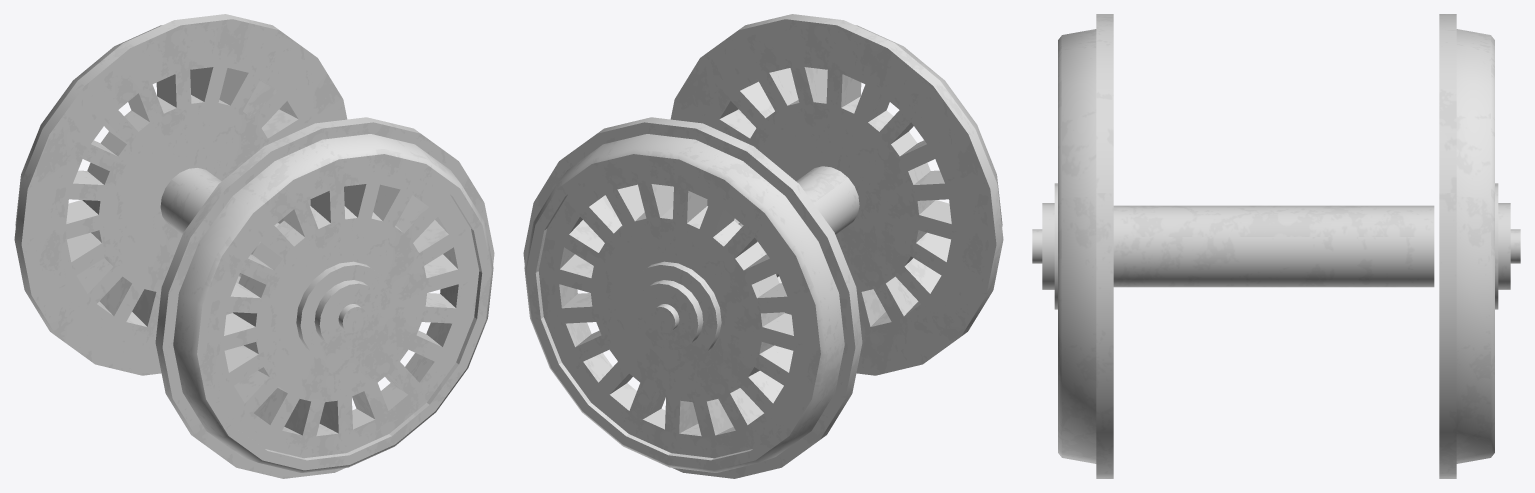
The model's file is Steam Train Wheel_A_001.fbx.
3 renders of one model, left to right at view 1: azimuth 30°, elevation 25°; view 2: azimuth 150°, elevation 25°; view 3: azimuth 270°, elevation 25°, orthographic. The views are drawn at different scales.
Visible parts, largest first — view 1: Steam_Train_Wheel_A_001; view 2: Steam_Train_Wheel_A_001; view 3: Steam_Train_Wheel_A_001.
Part boxes in pixels (x1,y1,x2,y2): Steam_Train_Wheel_A_001: (14, 14, 494, 478); Steam_Train_Wheel_A_001: (523, 14, 1003, 478); Steam_Train_Wheel_A_001: (1032, 14, 1520, 478).
Bounding box in the file's own units: 119 × 119 × 124.
Materials: 2 (2 with a texture image).
